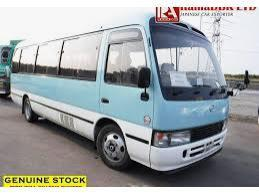bus: (10, 17, 231, 175)
